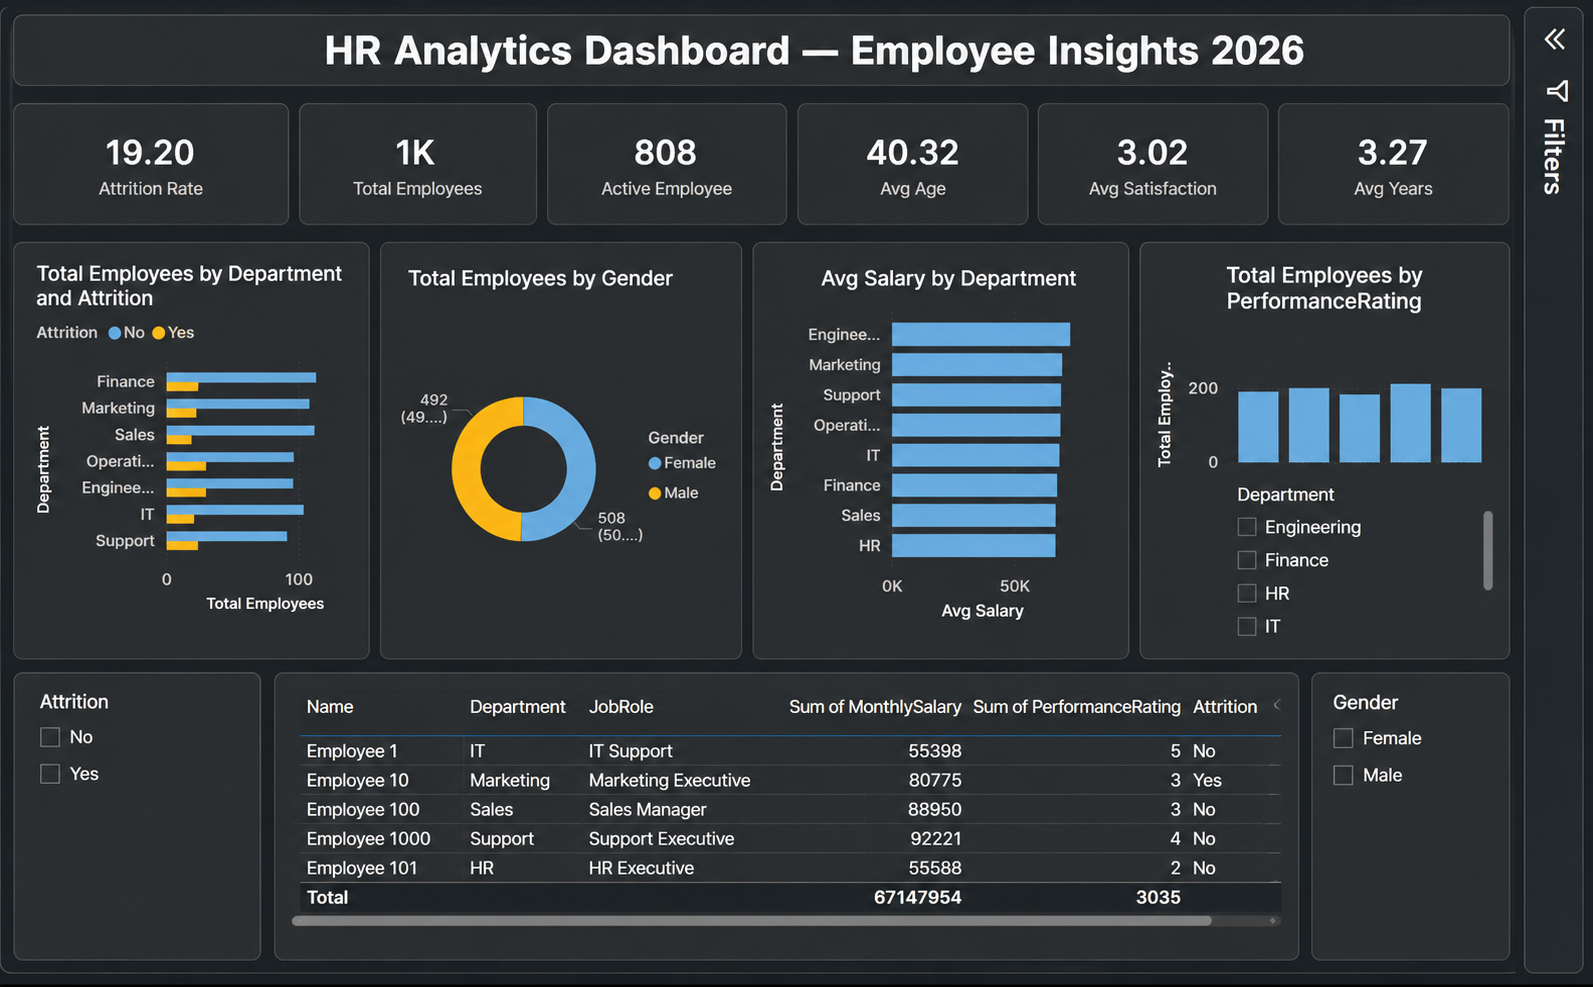

What the dashboard file says about the page in this screenshot:
{"tool":"powerbi","page":{"name":"Page 1","canvas":[1280,720],"ordinal":0},"visuals":[{"type":"cardVisual","fields":{"Data":["EmployeeData.Attrition Rate"]},"box":[0,0,281.7,280.1],"z":0},{"type":"cardVisual","fields":{"Data":["EmployeeData.Active Employees"]},"box":[421,0,280.1,278.5],"z":1000},{"type":"cardVisual","fields":{"Data":["EmployeeData.Avg Satisfaction"]},"box":[814.5,0,280.1,278.5],"z":2000},{"type":"cardVisual","fields":{"Data":["EmployeeData.Total Employees"]},"box":[158.7,0,280.1,278.5],"z":3000},{"type":"cardVisual","fields":{"Data":["EmployeeData.Avg Salary"]},"box":[999.1,25.9,281.7,280.1],"z":4000},{"type":"cardVisual","fields":{"Data":["EmployeeData.Avg Age"]},"box":[561.9,1.6,278.5,280.1],"z":5000},{"type":"cardVisual","fields":{"Data":["EmployeeData.Avg Years"]},"box":[1000.7,3.2,278.5,280.1],"z":6000},{"type":"clusteredBarChart","fields":{"Category":["EmployeeData.Department"],"Y":["EmployeeData.Total Employees"],"Series":["EmployeeData.Attrition"]},"box":[0,195.9,280.1,280.1],"z":7000},{"type":"donutChart","fields":{"Category":["EmployeeData.Gender"],"Y":["EmployeeData.Total Employees"]},"box":[299.6,207.3,280.1,281.7],"z":8000},{"type":"clusteredBarChart","fields":{"Category":["EmployeeData.Department"],"Y":["EmployeeData.Avg Salary"]},"box":[620.2,195.9,280.1,281.7],"z":9000},{"type":"clusteredColumnChart","fields":{"Y":["EmployeeData.Total Employees"],"Category":["EmployeeData.PerformanceRating"]},"box":[934.3,231.5,280.1,150.6],"z":10000},{"type":"tableEx","fields":{"Values":["EmployeeData.Name","EmployeeData.Department","EmployeeData.JobRole","Sum(EmployeeData.MonthlySalary)","Sum(EmployeeData.PerformanceRating)","EmployeeData.Attrition"]},"box":[299.6,570,678.5,150.6],"z":11000},{"type":"slicer","fields":{"Values":["EmployeeData.Department"]},"box":[978,382.1,255.8,150.6],"z":11001},{"type":"slicer","fields":{"Values":["EmployeeData.Attrition"]},"box":[2,570,280,150],"z":11002},{"type":"slicer","fields":{"Values":["EmployeeData.Gender"]},"box":[978,570,256,150],"z":11003}]}

Visuals, with their boxes on the page's 1280x720 design canvas (x1, y1, x2, y2). These are canvas units, not pixel positions in the 1593x987 screenshot, which may show the page scaled, cropped or inside an application window:
cardVisual - EmployeeData.Attrition Rate: rect(0, 0, 282, 280)
cardVisual - EmployeeData.Active Employees: rect(421, 0, 701, 278)
cardVisual - EmployeeData.Avg Satisfaction: rect(814, 0, 1095, 278)
cardVisual - EmployeeData.Total Employees: rect(159, 0, 439, 278)
cardVisual - EmployeeData.Avg Salary: rect(999, 26, 1281, 306)
cardVisual - EmployeeData.Avg Age: rect(562, 2, 840, 282)
cardVisual - EmployeeData.Avg Years: rect(1001, 3, 1279, 283)
clusteredBarChart - EmployeeData.Department x EmployeeData.Total Employees: rect(0, 196, 280, 476)
donutChart - EmployeeData.Gender x EmployeeData.Total Employees: rect(300, 207, 580, 489)
clusteredBarChart - EmployeeData.Department x EmployeeData.Avg Salary: rect(620, 196, 900, 478)
clusteredColumnChart - EmployeeData.Total Employees x EmployeeData.PerformanceRating: rect(934, 232, 1214, 382)
tableEx - EmployeeData.Name x EmployeeData.Department: rect(300, 570, 978, 721)
slicer - EmployeeData.Department: rect(978, 382, 1234, 533)
slicer - EmployeeData.Attrition: rect(2, 570, 282, 720)
slicer - EmployeeData.Gender: rect(978, 570, 1234, 720)
